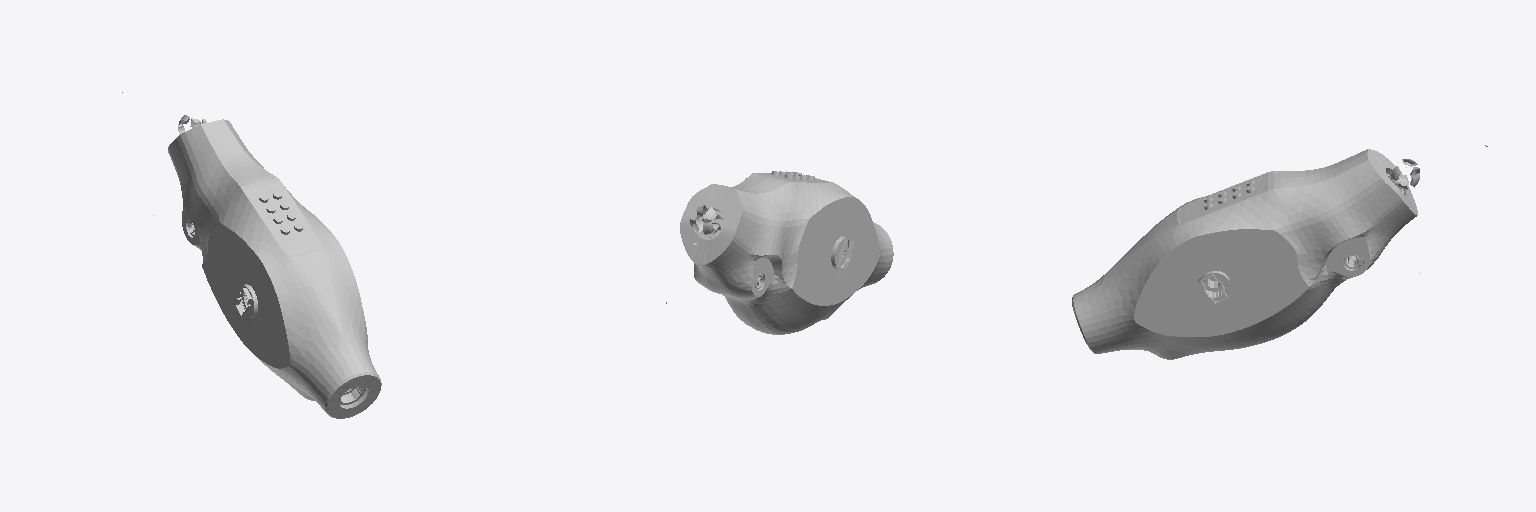
Rendered from Cuerpo.obj.
3 views of the same model, side by side, from view 1: azimuth 30°, elevation 25°; view 2: azimuth 150°, elevation 25°; view 3: azimuth 270°, elevation 25° (orthographic).
Parts seen in each view (by area): view 1: polySurface92 polySurface80 polySurface66 polySurface52 polySurf; view 2: polySurface92 polySurface80 polySurface66 polySurface52 polySurf; view 3: polySurface92 polySurface80 polySurface66 polySurface52 polySurf.
Part boxes in pixels (bbox=[...]): polySurface92 polySurface80 polySurface66 polySurface52 polySurf: bbox=[122, 92, 381, 418]; polySurface92 polySurface80 polySurface66 polySurface52 polySurf: bbox=[666, 171, 893, 334]; polySurface92 polySurface80 polySurface66 polySurface52 polySurf: bbox=[1072, 145, 1487, 359].
Size of the model in its own units: 1.78 by 3.74 by 6.9.